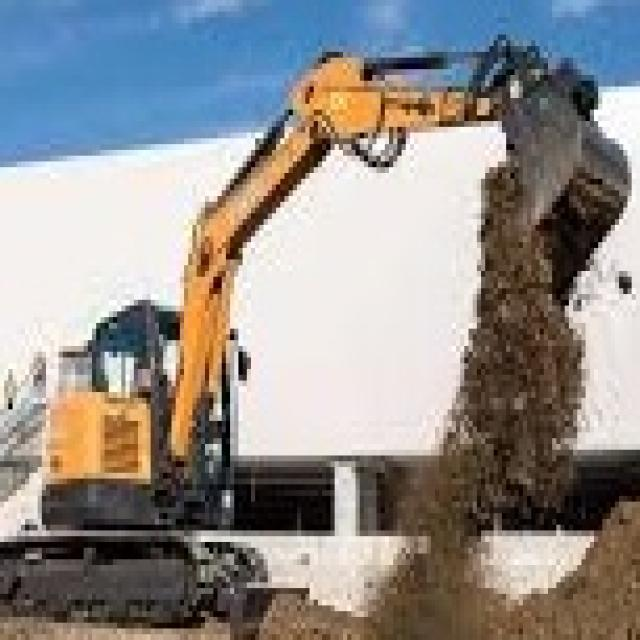excavator: (7, 275, 272, 640)
